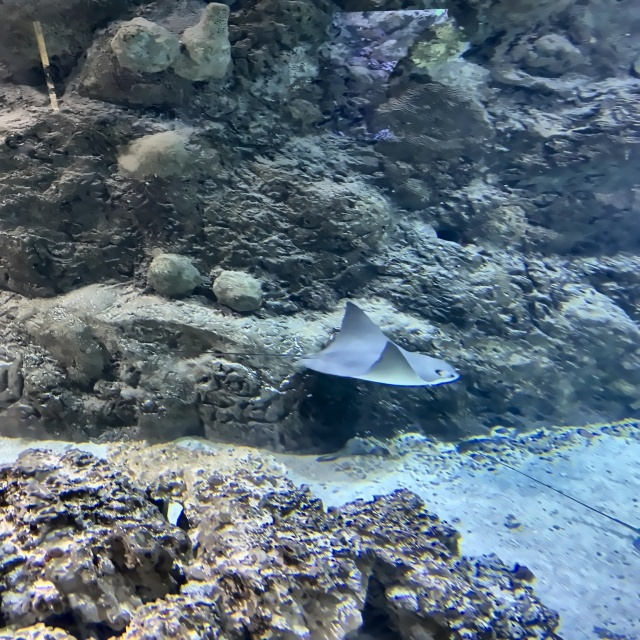stingray: (297, 301, 460, 386)
